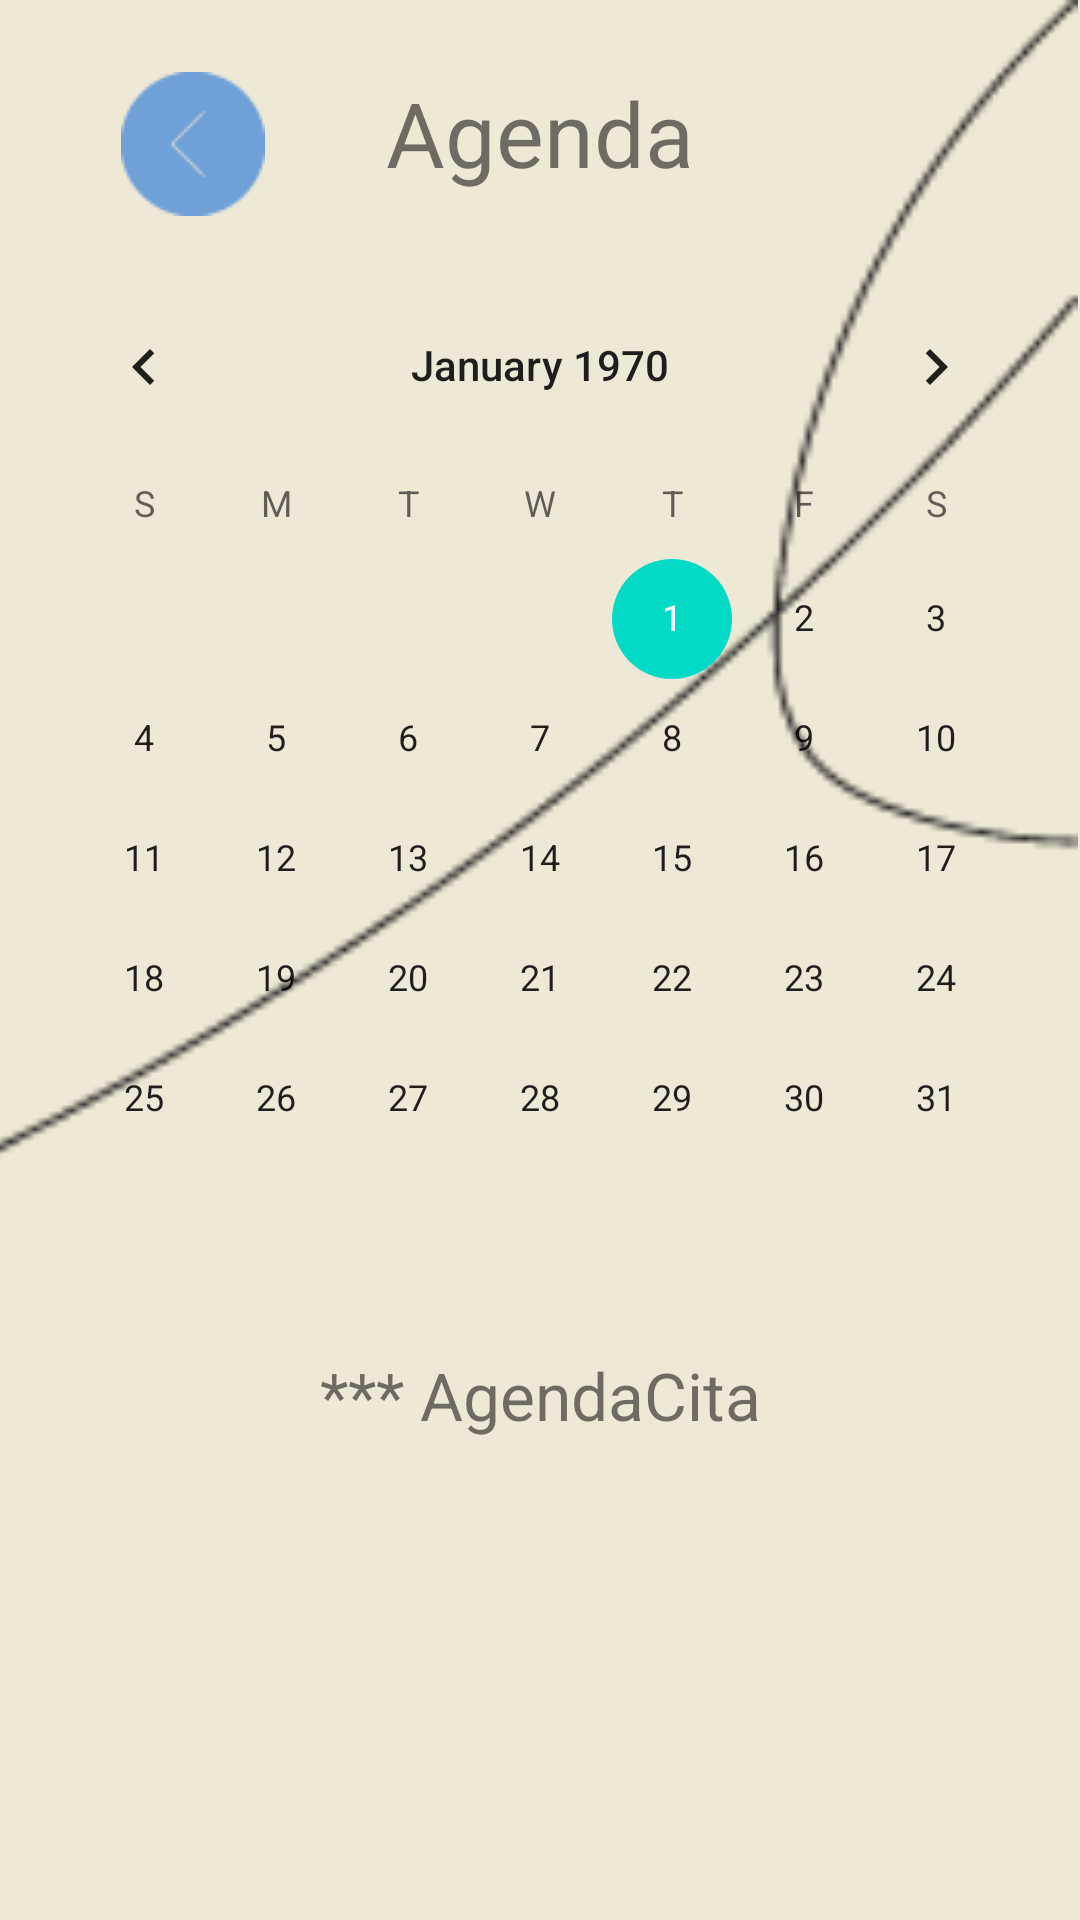

Where icons sit on this 1080px x 1920px app screen, as (x1, y1, x2, y2):
regresar: (121, 72, 265, 216)
